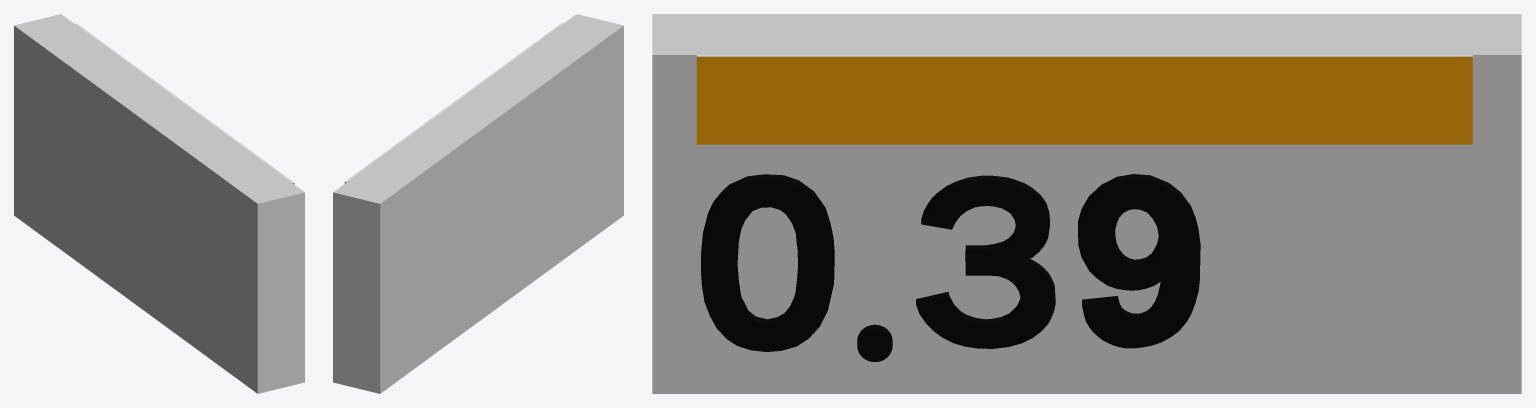
The model's file is numbers_blender.fbx.
3 renders of one model, left to right at view 1: azimuth 30°, elevation 25°; view 2: azimuth 150°, elevation 25°; view 3: azimuth 270°, elevation 25°, orthographic. The views are drawn at different scales.
Parts seen in each view (by area): view 1: Cube.001, Cube; view 2: Cube.001, Cube; view 3: Cube.001, Cube, 9, 0, 3, Circle.
Part boxes in pixels (x1,y1,x2,y2): Cube.001: (14, 14, 304, 393); Cube: (75, 23, 294, 184); Cube.001: (333, 14, 623, 393); Cube: (344, 22, 563, 183); Cube.001: (652, 14, 1521, 393); Cube: (696, 55, 1472, 144); 9: (1078, 174, 1200, 348); 0: (701, 174, 834, 351); 3: (916, 175, 1055, 348); Circle: (857, 324, 892, 361).
Size of the model in its own units: 227 by 771 by 1792.
